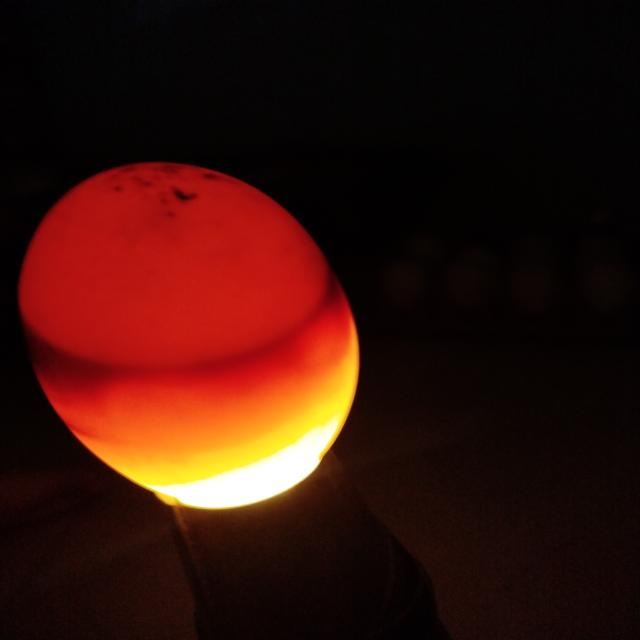Area Infectada: (18, 259, 341, 389)
